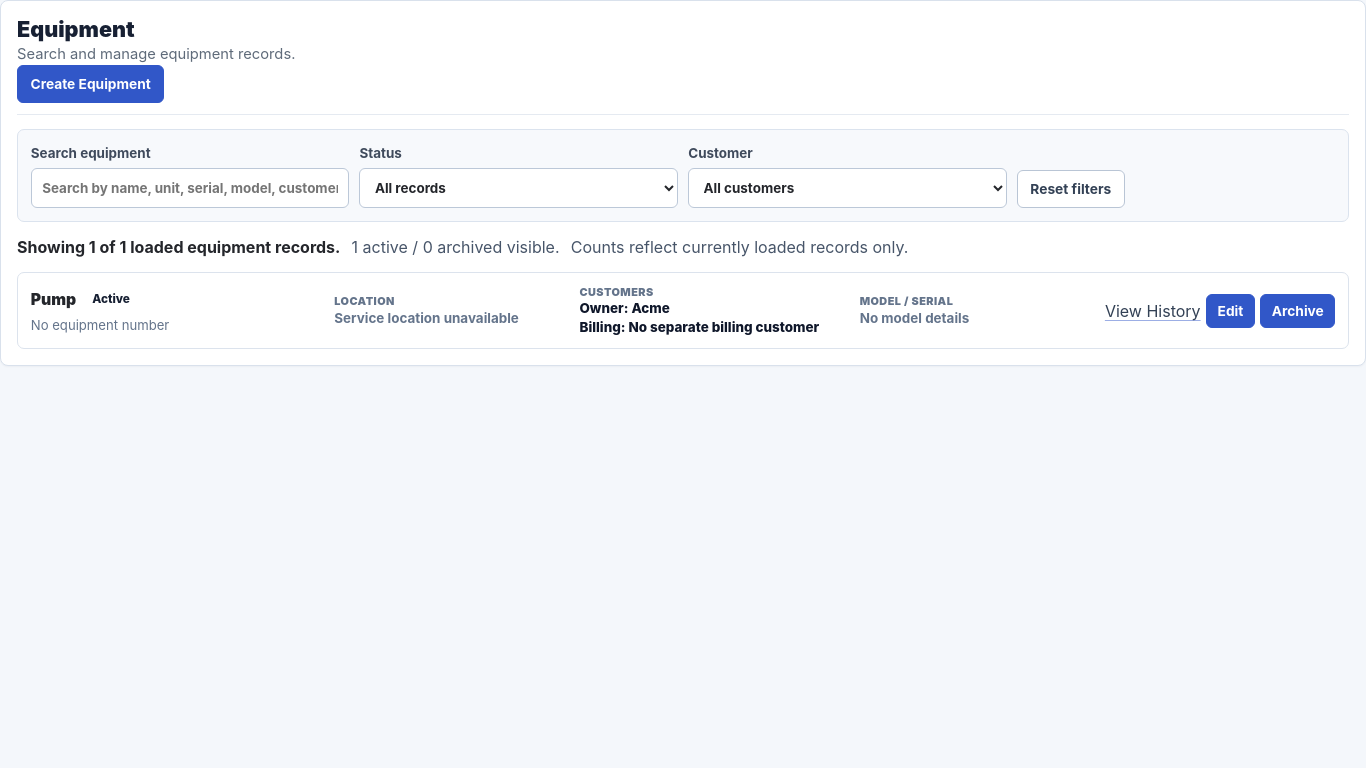
MasterData equipment customer/location validation › does not allow an unloaded service-location fallback to move to another customer
This screenshot has width=1366, height=768.
Expected: the list item "Pump" is shown, left=31, top=290, right=76, bottom=309
Click the button "Edit" at (1230, 311), box left=1206, top=294, right=1255, bottom=328
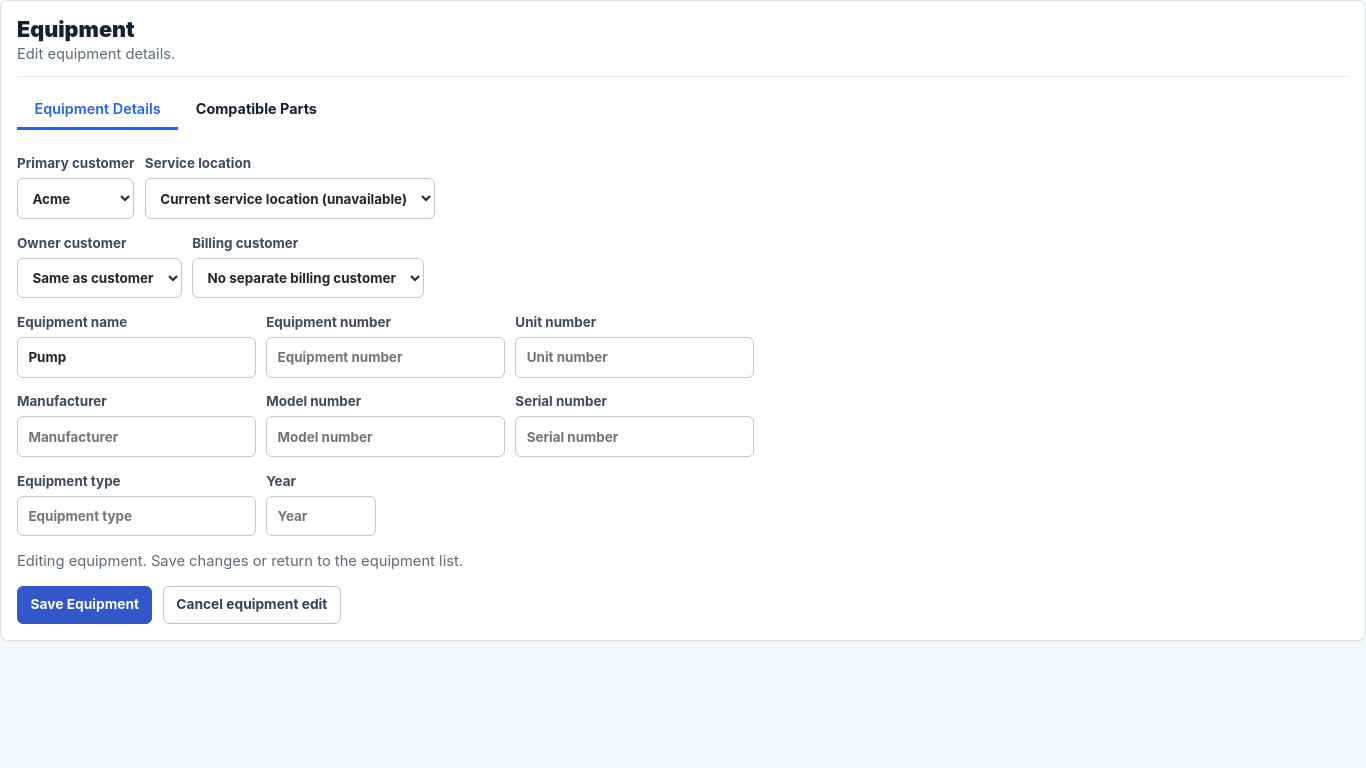
Select "Beta" in the dropdown labelled "Primary customer" at (76, 199), box left=17, top=178, right=134, bottom=219
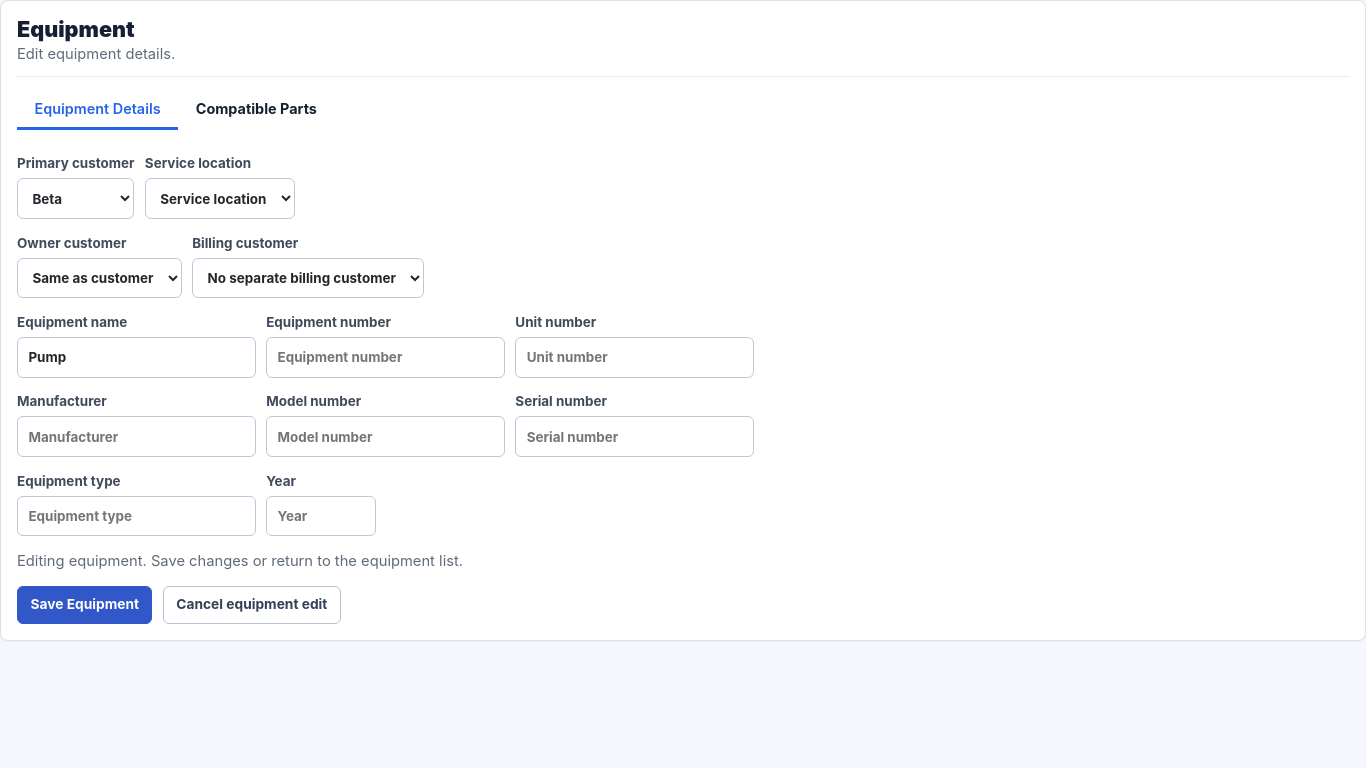
Expected: the option "Current service location (unavailable)" is not shown
Result: the dropdown labelled "Service location" shows "Service location" at left=145, top=178, right=295, bottom=219
Submit the form named "equipment form", box left=17, top=155, right=754, bottom=624
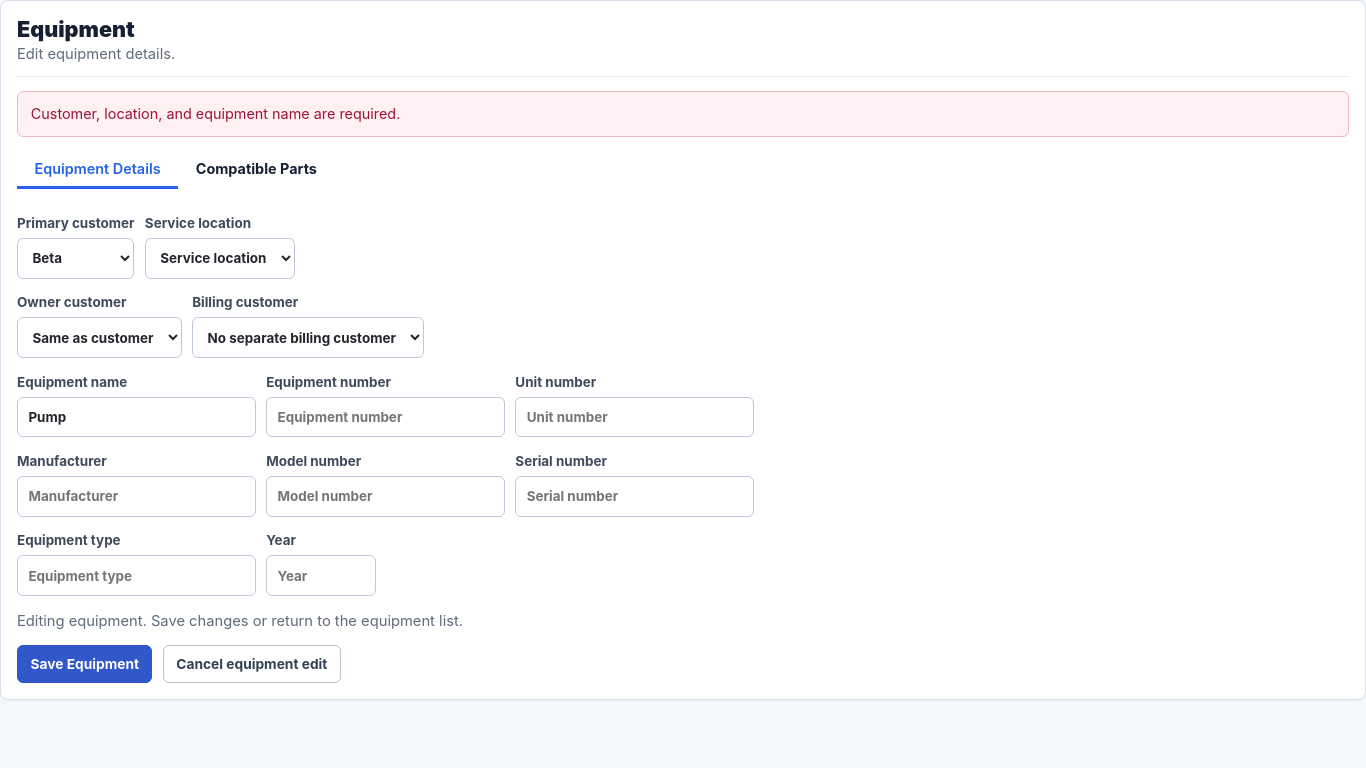
Result: the text "Customer, location, and equipment name are required." is shown at left=17, top=91, right=1349, bottom=137
